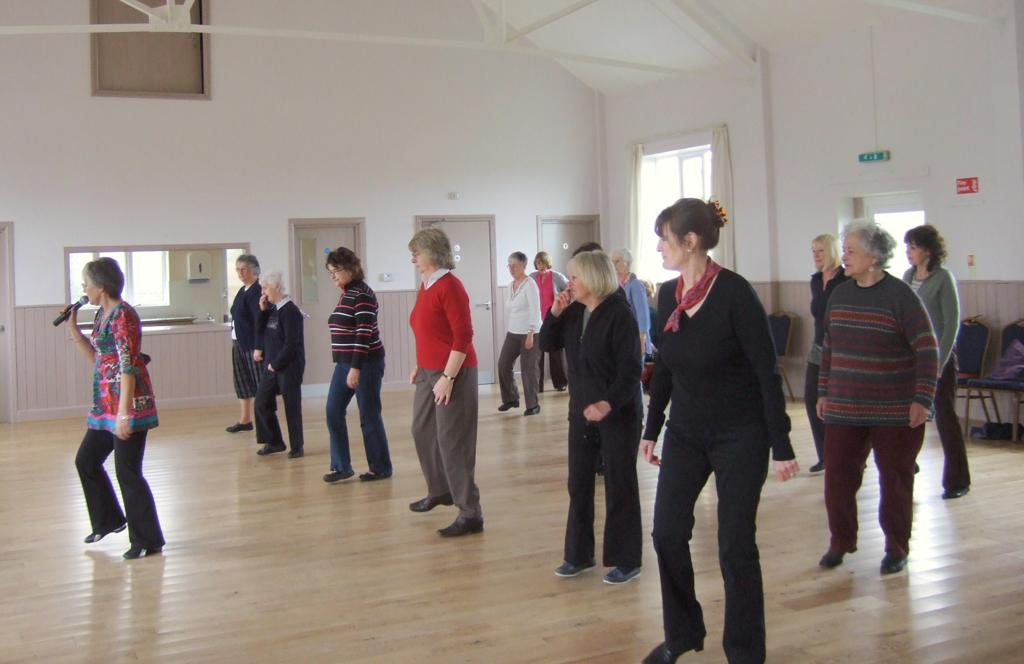face: (656, 221, 686, 269), (841, 235, 869, 275), (568, 267, 588, 299), (411, 242, 433, 270), (327, 261, 350, 285), (904, 239, 924, 265), (83, 275, 100, 303), (812, 244, 832, 267), (608, 254, 624, 276), (236, 261, 252, 281), (261, 281, 275, 303), (508, 259, 522, 276), (535, 257, 546, 273)
